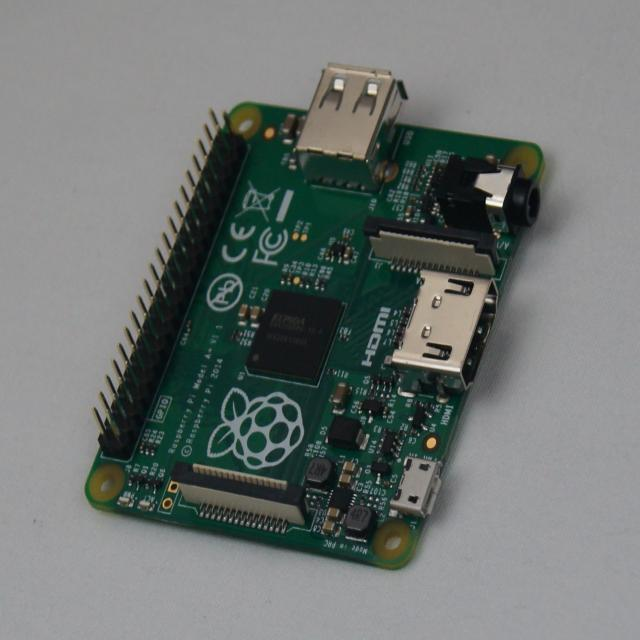Raspberry-Pi-1-A-: (86, 65, 545, 570)
